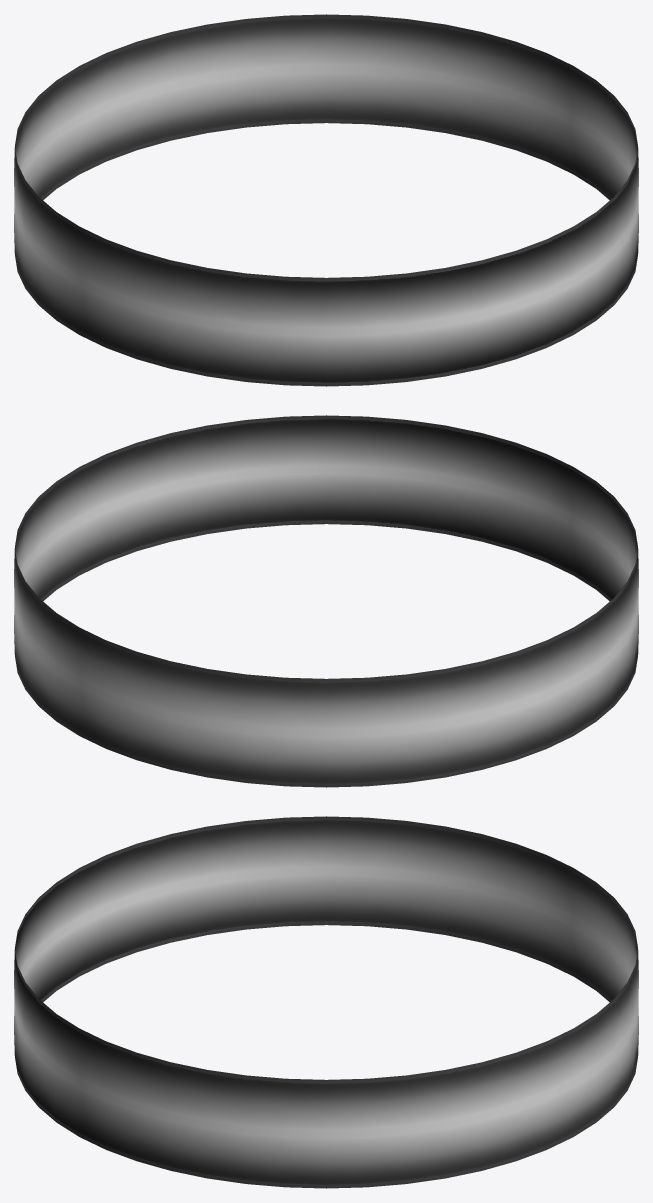
The model's file is Ring.fbx.
3 views of the same model, one above another, from view 1: azimuth 30°, elevation 25°; view 2: azimuth 150°, elevation 25°; view 3: azimuth 270°, elevation 25° (orthographic).
Parts seen in each view (by area): view 1: Ring; view 2: Ring; view 3: Ring.
Boxes of the visible parts, bbox=[...] form: Ring: bbox=[14, 14, 638, 386]; Ring: bbox=[14, 415, 638, 787]; Ring: bbox=[14, 816, 638, 1188].
Size of the model in its own units: 1.49 by 0.2851 by 1.49.
